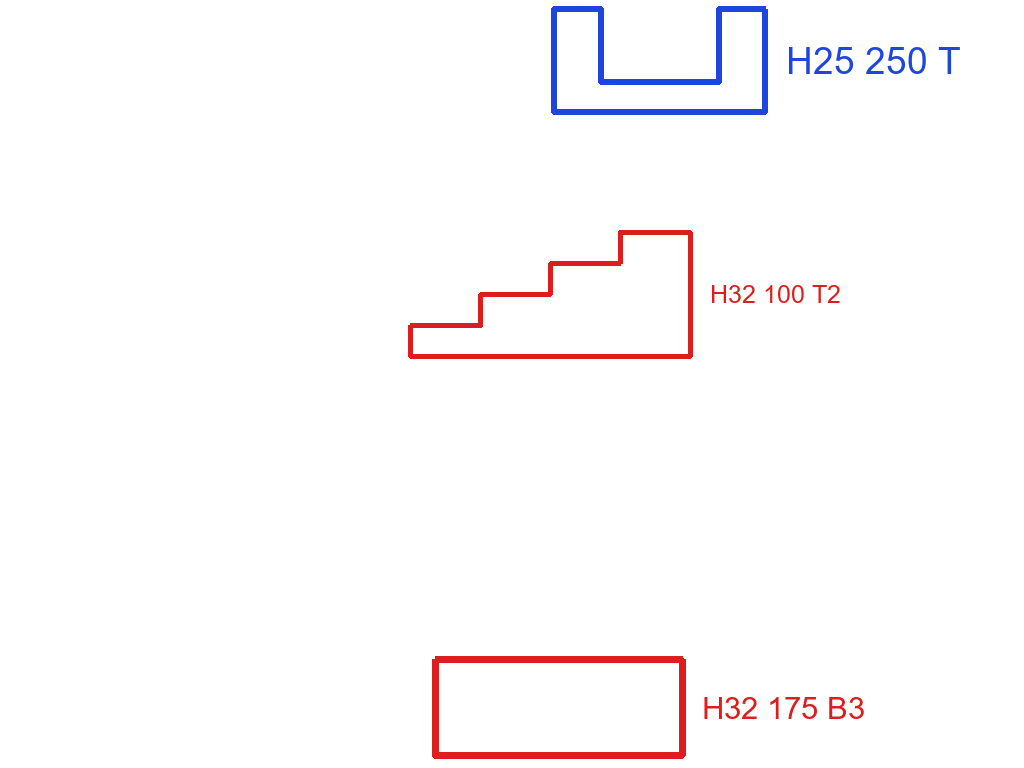shape: (406, 228, 695, 361), (430, 654, 688, 761), (549, 5, 771, 116)
text: (784, 45, 963, 76), (700, 695, 867, 721), (708, 283, 843, 305)
